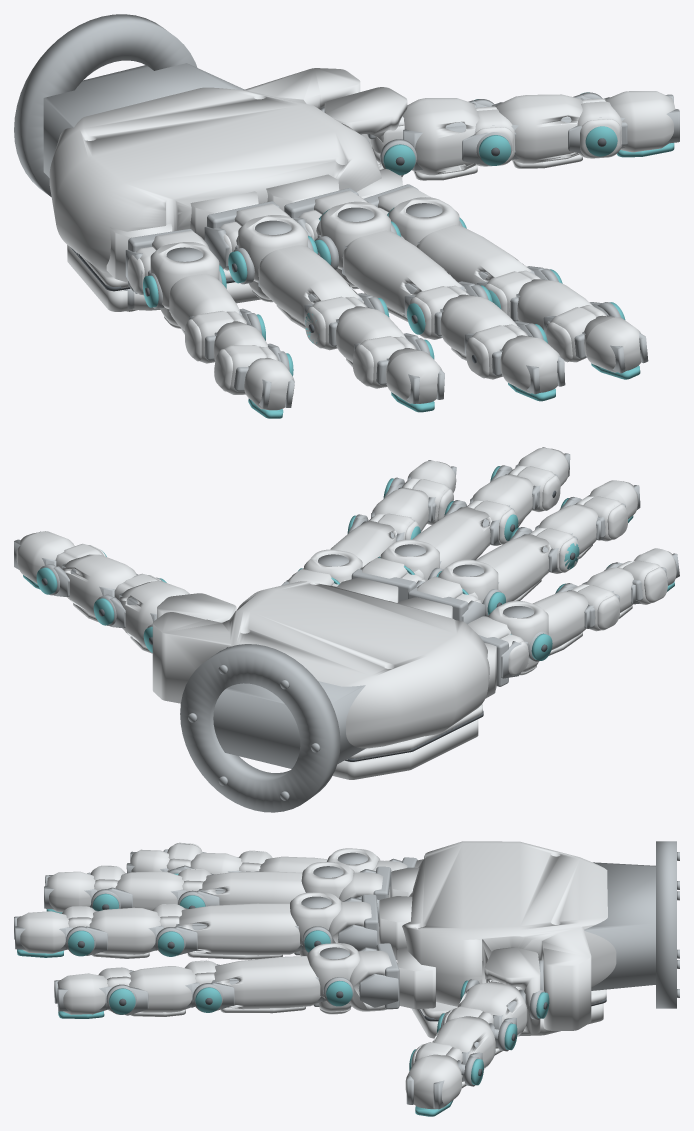
The model's file is aster20.glb.
The picture shows the model from 3 angles, top to bottom: view 1: azimuth 30°, elevation 25°; view 2: azimuth 150°, elevation 25°; view 3: azimuth 270°, elevation 25°; orthographic projection. The views are drawn at different scales.
Visible parts, largest first — view 1: visual__central_palm__1, visual__central_palm__0, visual__middle_proximal__0, visual__thumb_proximal__0, visual__ring_proximal__0, visual__thumb_metacarpal__0, visual__index_proximal__0, visual__middle_middle__0, visual__index_middle__0, visual__little_proximal__0, visual__ring_middle__0, visual__thumb_oppose_link__1 (+28 smaller); view 2: visual__central_palm__1, visual__central_palm__0, visual__ring_proximal__0, visual__middle_proximal__0, visual__little_proximal__0, visual__thumb_proximal__0, visual__ring_middle__0, visual__middle_middle__0, visual__thumb_metacarpal__0, visual__little_middle__0, visual__index_middle__0, visual__index_proximal__0 (+17 smaller); view 3: visual__central_palm__1, visual__central_palm__0, visual__middle_proximal__0, visual__index_proximal__0, visual__ring_proximal__0, visual__middle_middle__0, visual__index_middle__0, visual__thumb_proximal__0, visual__ring_middle__0, visual__thumb_oppose_link__1, visual__thumb_metacarpal__0, visual__thumb_distal__0 (+33 smaller).
Part boxes in pixels (x1,y1,x2,y2): visual__central_palm__1: (49,68,402,311); visual__central_palm__0: (14,14,324,309); visual__middle_proximal__0: (342,230,469,339); visual__thumb_proximal__0: (495,94,622,168); visual__ring_proximal__0: (258,245,367,350); visual__thumb_metacarpal__0: (403,98,514,180); visual__index_proximal__0: (416,225,541,317); visual__middle_middle__0: (440,294,527,379); visual__index_middle__0: (517,279,606,362); visual__little_proximal__0: (169,274,246,363); visual__ring_middle__0: (336,306,416,388); visual__thumb_oppose_link__1: (324,87,407,176); visual__central_palm__1: (152,577,496,779); visual__central_palm__0: (180,644,365,812); visual__ring_proximal__0: (476,527,579,602); visual__middle_proximal__0: (412,500,515,569); visual__little_proximal__0: (532,584,619,655); visual__thumb_proximal__0: (55,543,136,622); visual__ring_middle__0: (539,496,627,558); visual__middle_middle__0: (472,465,560,527); visual__thumb_metacarpal__0: (114,573,189,653); visual__little_middle__0: (585,560,667,618); visual__index_middle__0: (372,478,453,531); visual__index_proximal__0: (330,513,419,566); visual__central_palm__1: (379,841,616,1038); visual__central_palm__0: (539,841,679,1008); visual__middle_proximal__0: (152,903,300,959); visual__index_proximal__0: (185,956,320,1013); visual__ring_proximal__0: (178,868,305,905); visual__middle_middle__0: (62,906,160,958); visual__index_middle__0: (98,966,196,1016); visual__thumb_proximal__0: (411,1016,495,1088); visual__ring_middle__0: (90,865,183,910); visual__thumb_oppose_link__1: (484,947,540,1035); visual__thumb_metacarpal__0: (442,982,527,1055); visual__thumb_distal__0: (405,1054,462,1109).
Bounding box in the file's own units: 0.1938 × 0.056 × 0.2226.
